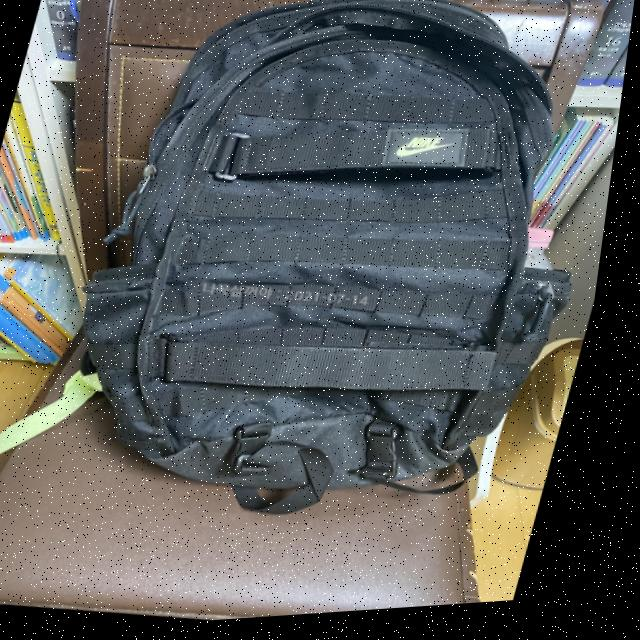backpack: (25, 0, 633, 560)
